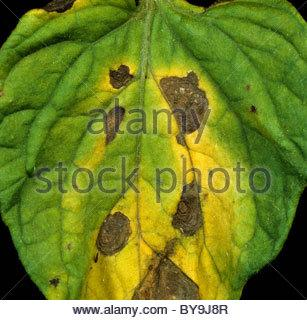Potato leaf late blight: (2, 1, 305, 299)
